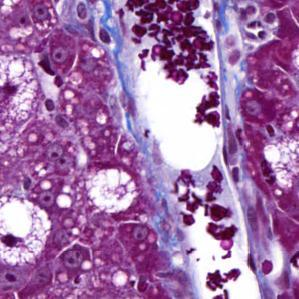ballooning: (2, 194, 52, 267), (4, 53, 40, 137), (87, 166, 139, 216)
